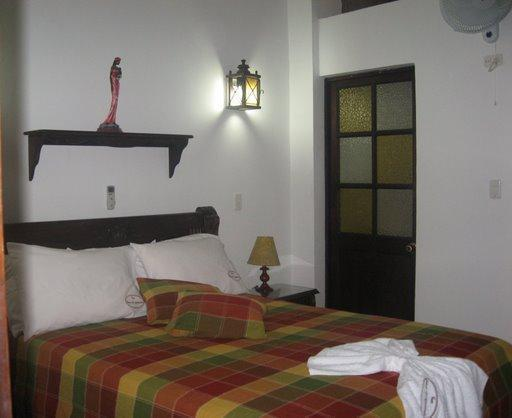Cama: (11, 220, 505, 417)
Puerta: (325, 83, 421, 317)
